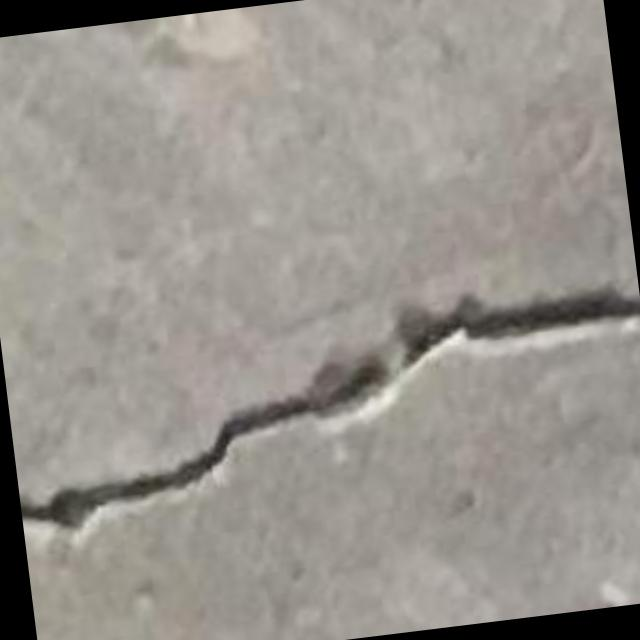crack: (20, 289, 639, 529)
